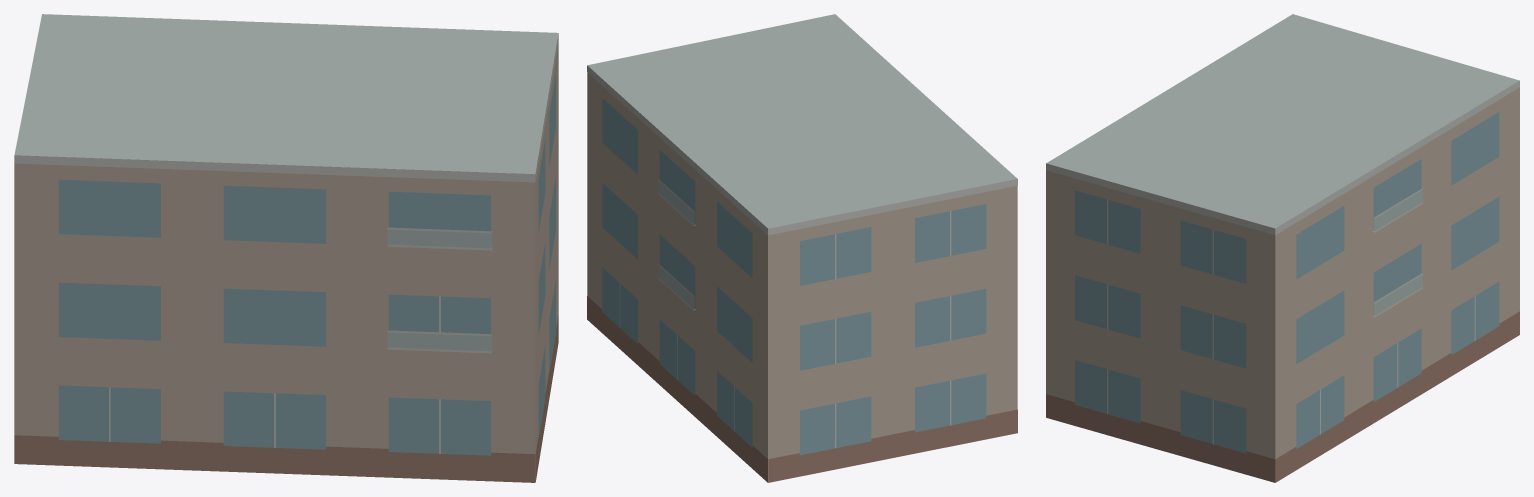
File: survey-upis-32707472.glb
3 renders of one model, left to right at view 1: azimuth 30°, elevation 25°; view 2: azimuth 150°, elevation 25°; view 3: azimuth 270°, elevation 25°, orthographic. The views are drawn at different scales.
Parts seen in each view (by area): view 1: survey-upis-32707472.tmp; view 2: survey-upis-32707472.tmp; view 3: survey-upis-32707472.tmp.
Boxes of the visible parts, x1,y1,x2,y2 form: survey-upis-32707472.tmp: (14,14,558,482); survey-upis-32707472.tmp: (587,14,1017,482); survey-upis-32707472.tmp: (1046,14,1519,482).
Size of the model in its own units: 16.56 by 9.15 by 15.45.
